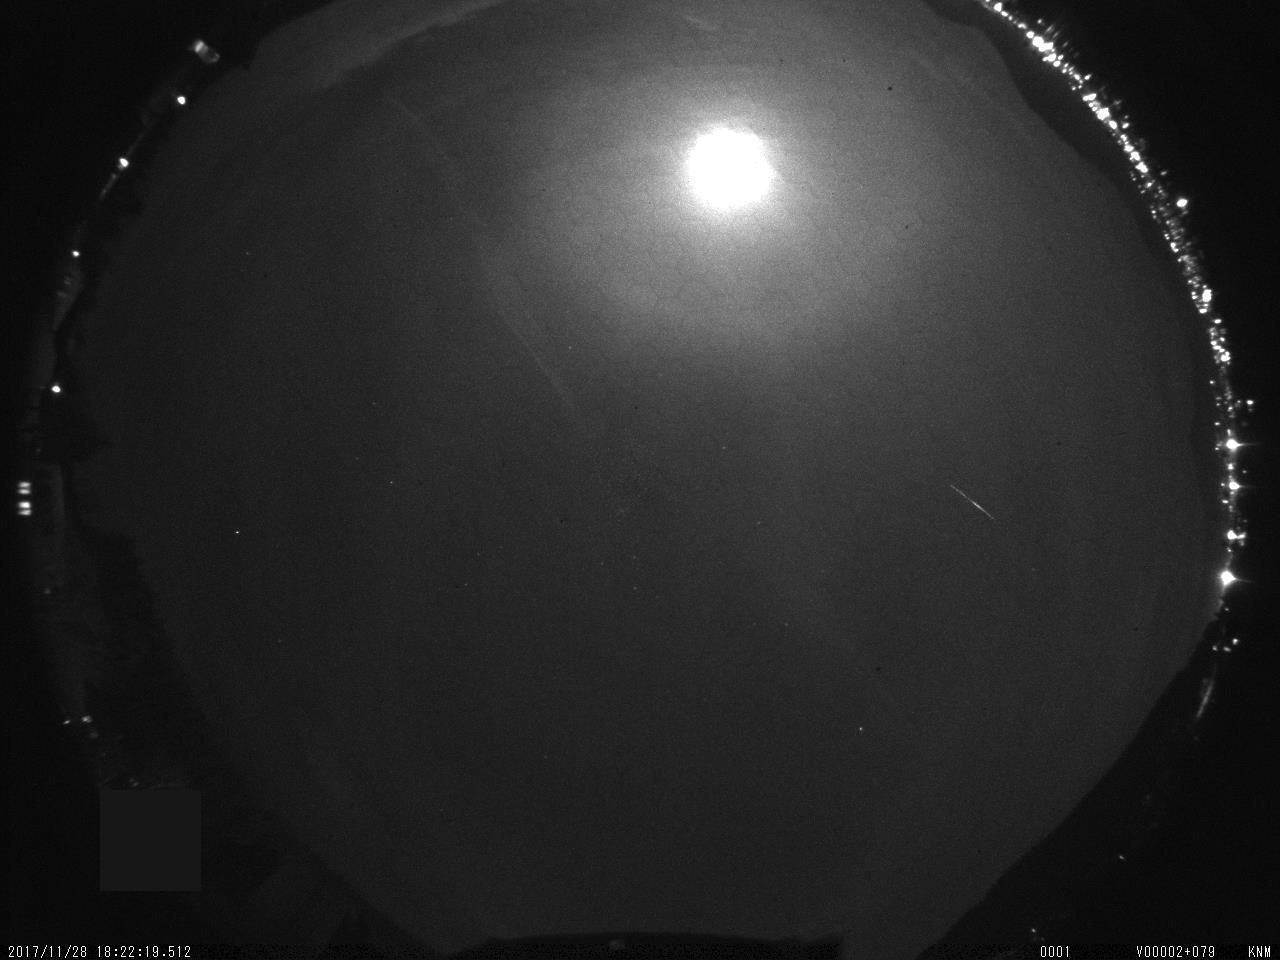Meteor: (944, 475, 1006, 530)
